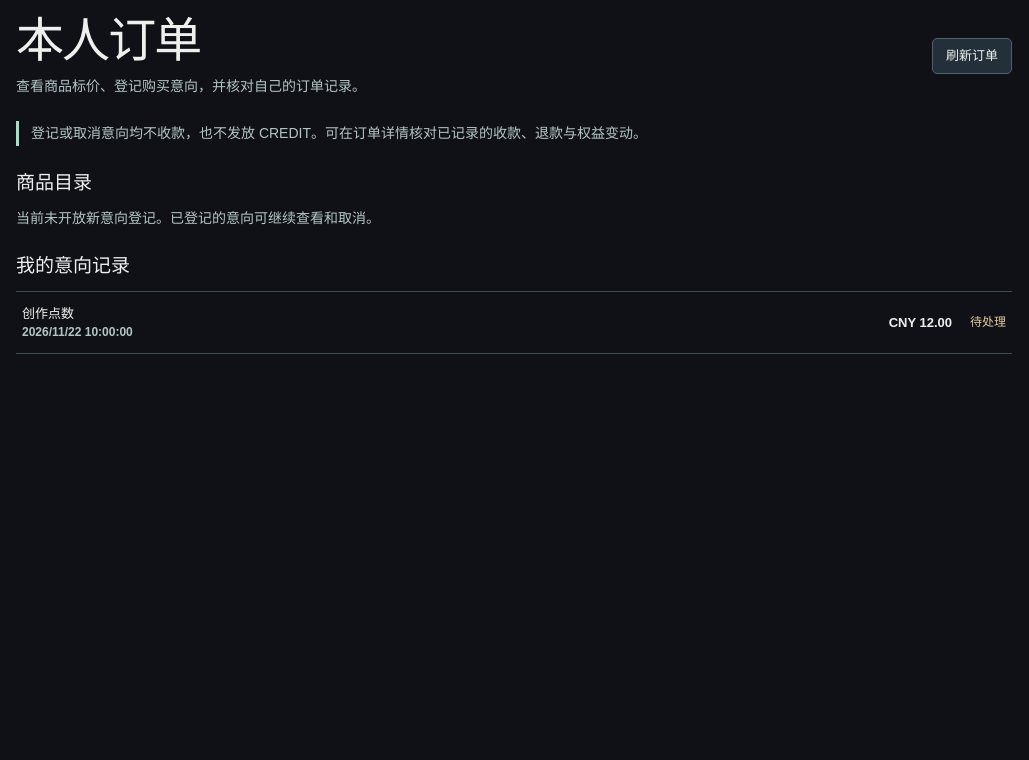
Test: supports existing records and explicit cancellation with the product catalog disabled
The width and height of the screenshot is (1029, 760).
Click the button "创作点数 2026/11/22 10:00:00 CNY 12.00 待处理".
click(48, 313)  # box [16,292,1012,353]
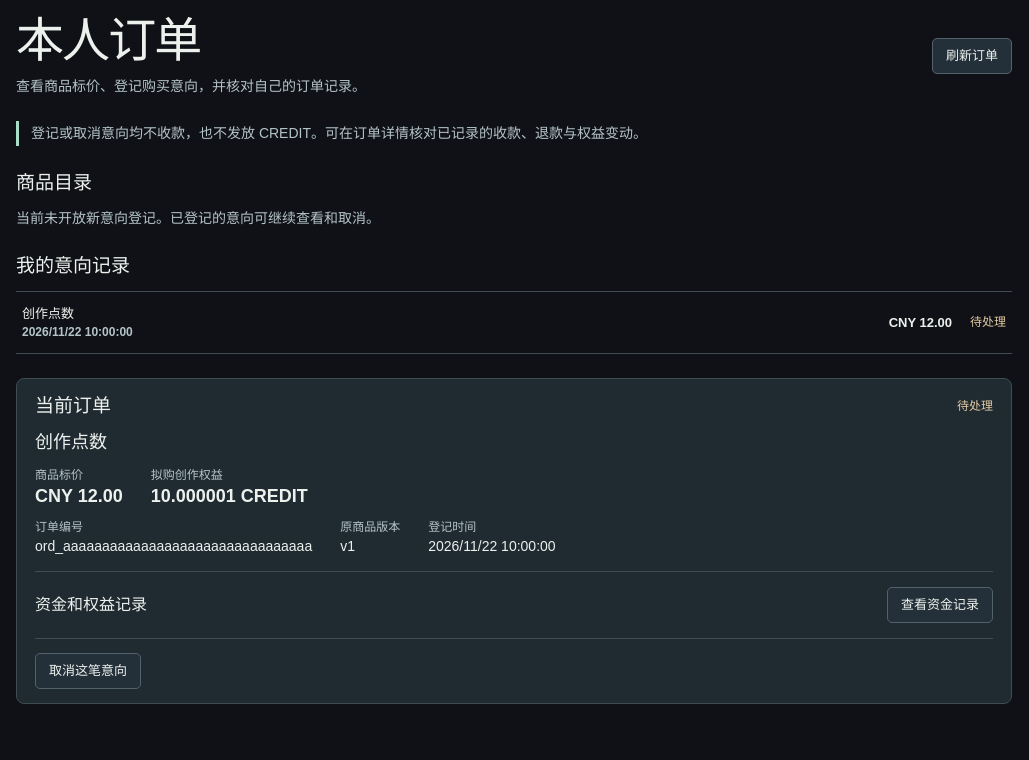
Check: the button "取消这笔意向" is shown
Check: the button "取消这笔意向" is enabled
Click the button "取消这笔意向".
click(88, 671)  # box [35,653,141,689]
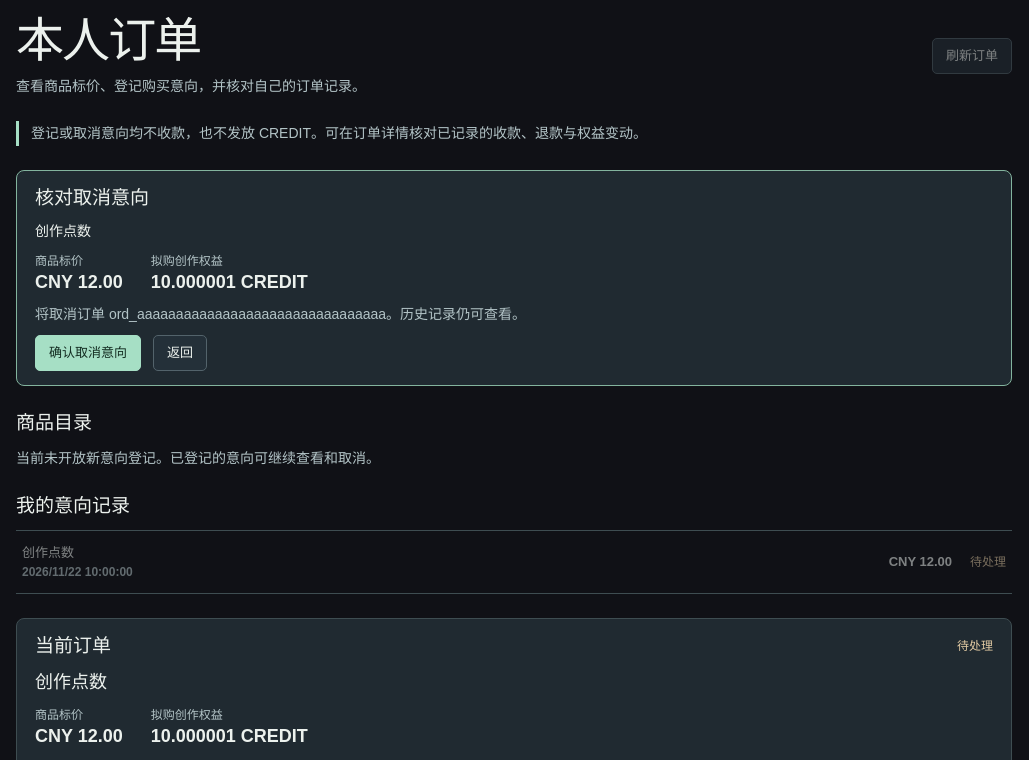
Check: the button "确认取消意向" is shown
Check: the button "确认取消意向" is enabled
Click the button "确认取消意向".
click(88, 353)  # box [35,335,141,371]
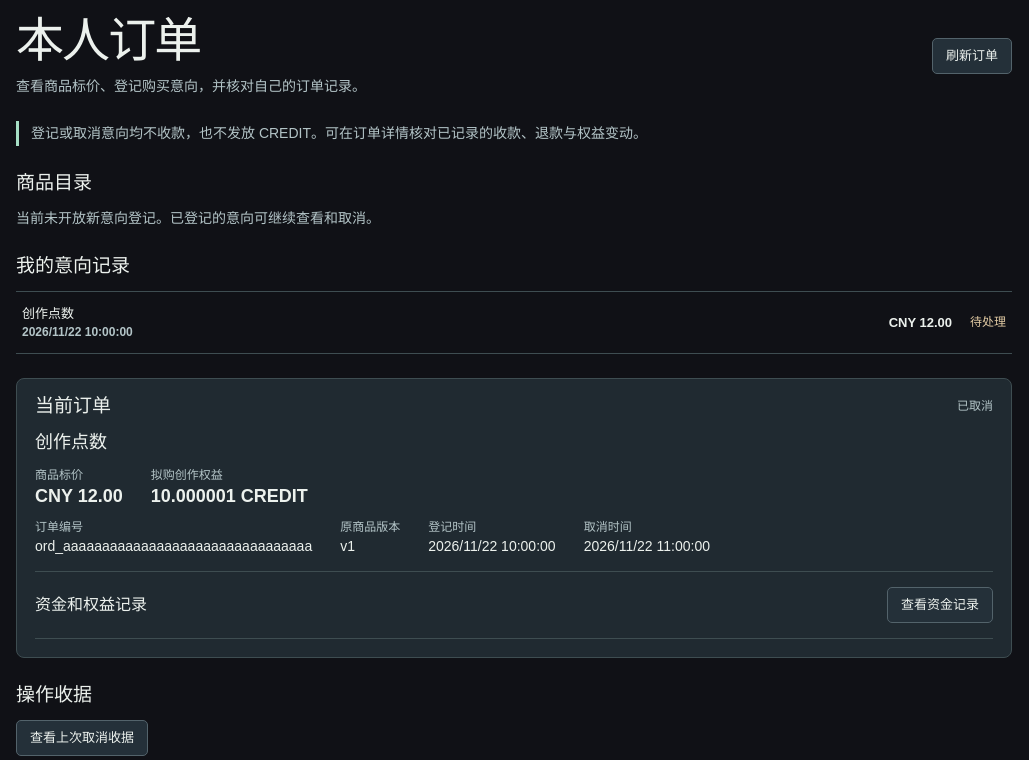
Check: the element named "当前订单" has attribute data-state="CANCELLED", box [16,378,1012,658]
